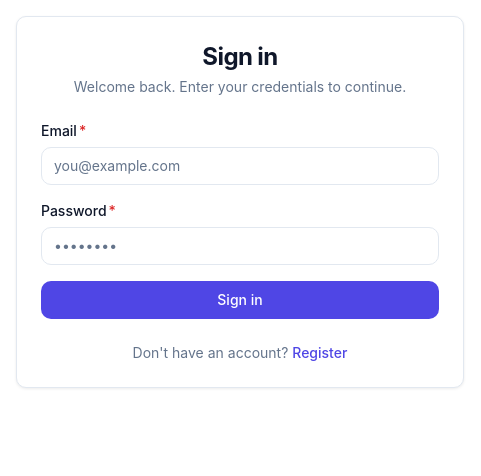
LoginPage › displays API error in an Alert when login fails with 401
The image size is (481, 476).
Step 1. Type "user@example.com" into the field labelled "Email*" → (240, 166), box x1=41 y1=147 x2=439 y2=185
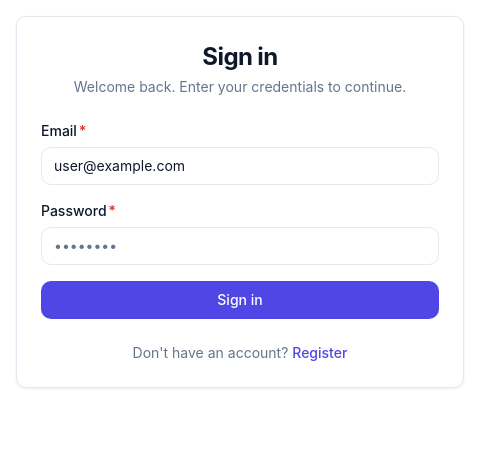
Step 2. Type "wrongpass" into the password field labelled "Password*" → (240, 246), box x1=41 y1=227 x2=439 y2=265
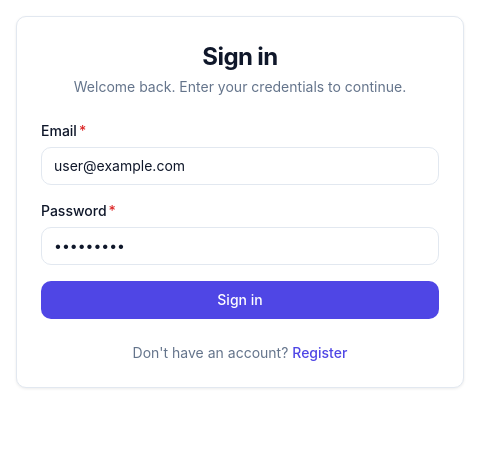
Step 3. Click the button "Sign in" → (240, 300), box x1=41 y1=281 x2=439 y2=319
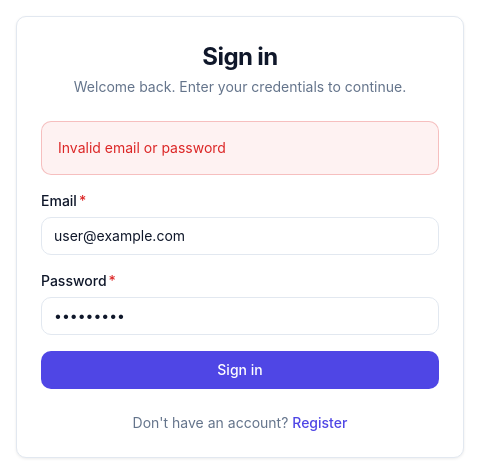
Expected: the message reads "Invalid email or password", x1=58 y1=139 x2=226 y2=156
